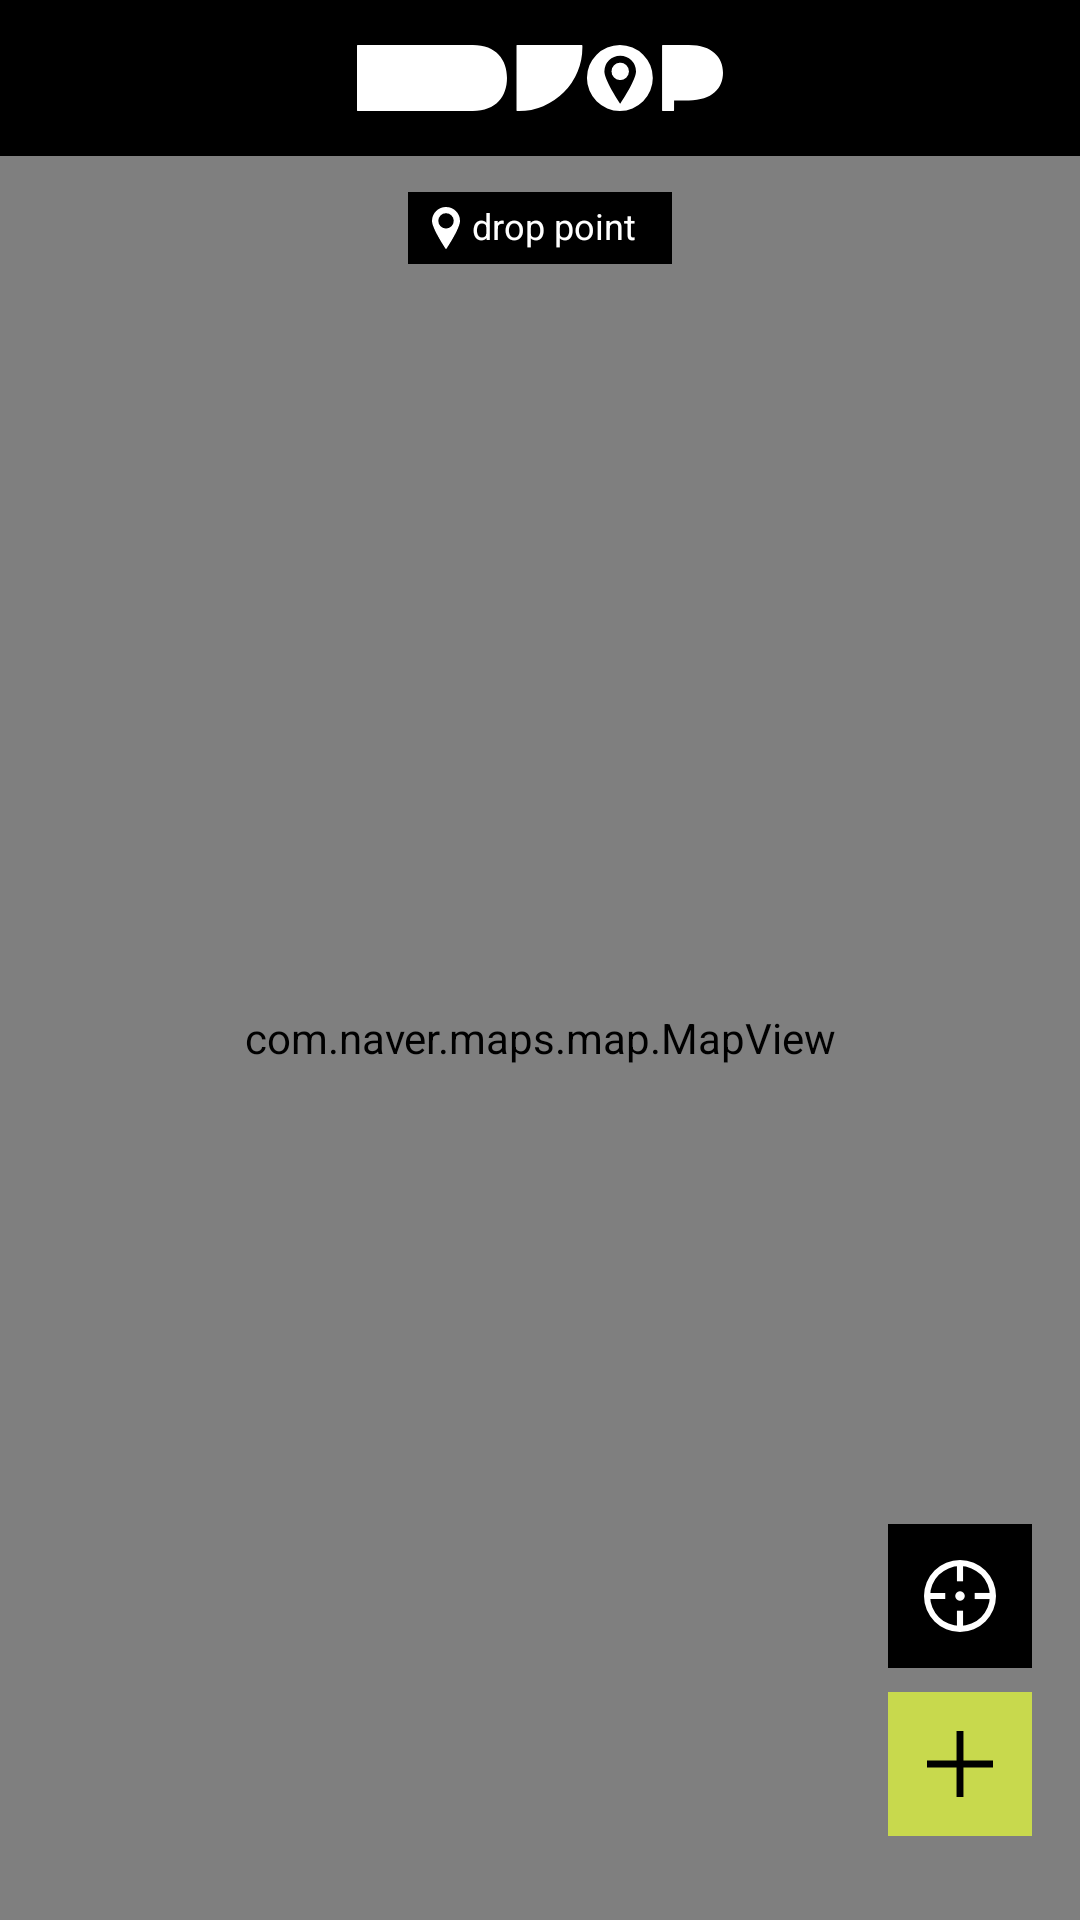

Screen size 1080 x 1920. Icon name, then its center in pixels as [x,y]:
fused: [960,1596]
pin: [446,228]
plus: [960,1764]
